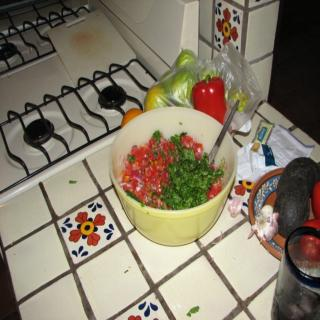Bell pepper: (190, 76, 228, 122)
Salad: (115, 118, 231, 222)
